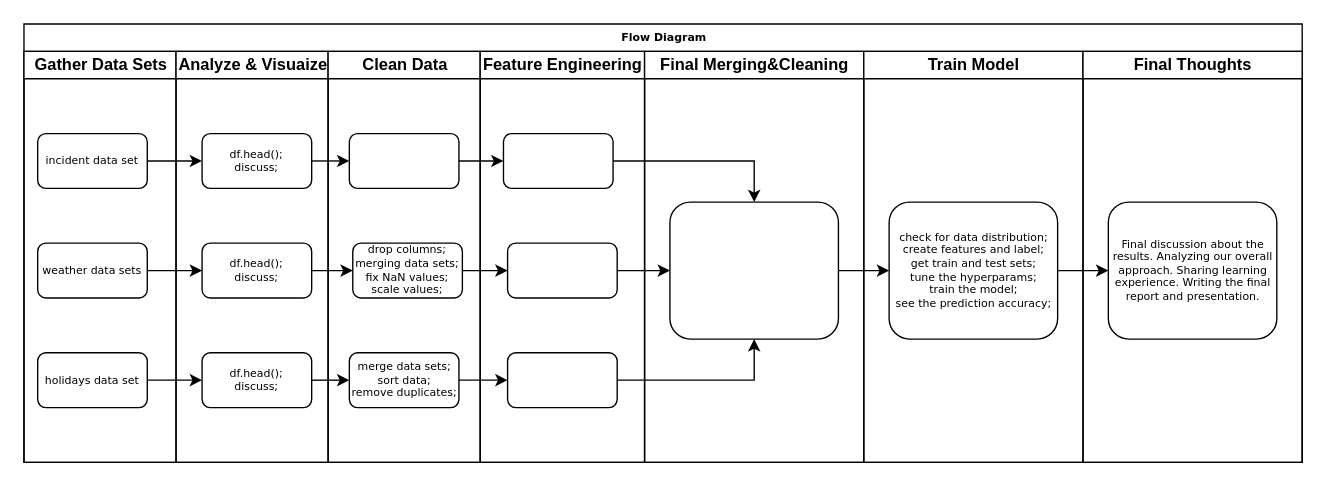
This 1326x486 diagram has some shape labels left out. Each missing label, with the centre of its shape:
"drop columns; fix 'Indéterminé'; encode 'Arrond';" belongs at [403,160].
"merge on Date and TimeOfDay; drop unused columns; groupby and countl;" belongs at [753,270].
"TimeOfDay" belongs at [561,379].
"TimeOfDay;" belongs at [557,160].
"TimeOfDay; CumulPrecip; WindPwr;" belongs at [561,270].
